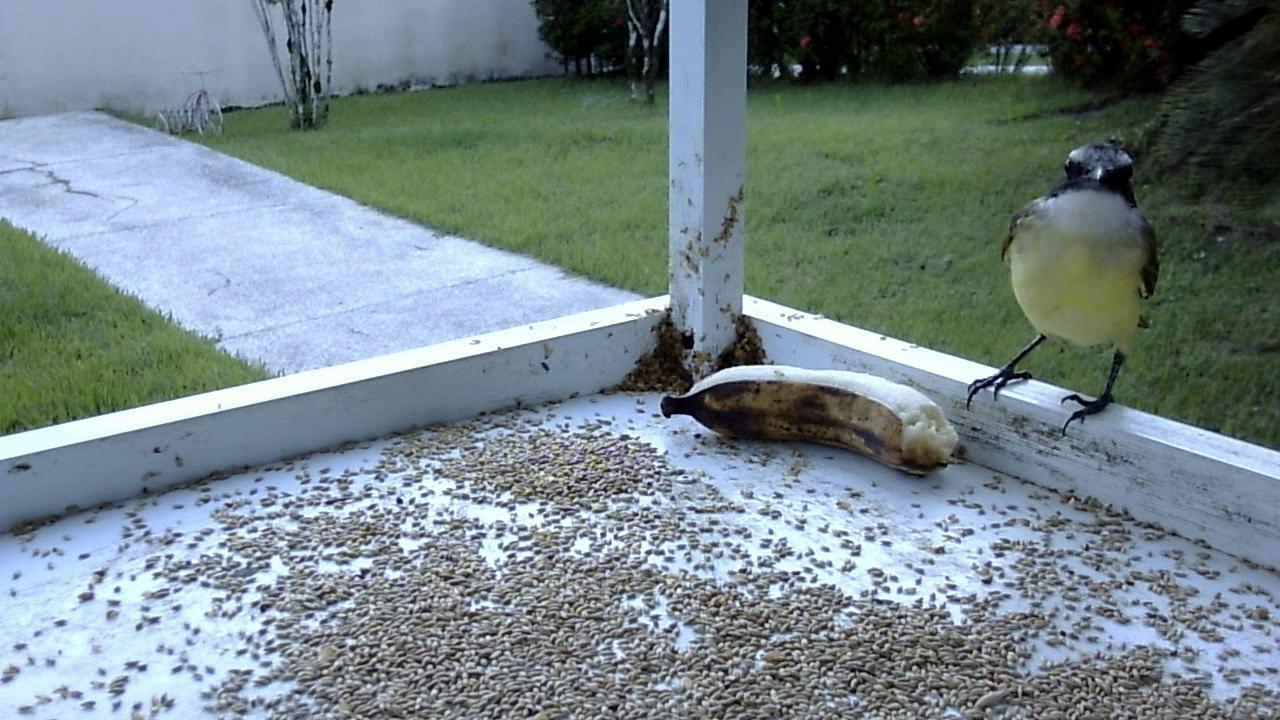bem_te_vi: (955, 129, 1164, 447)
